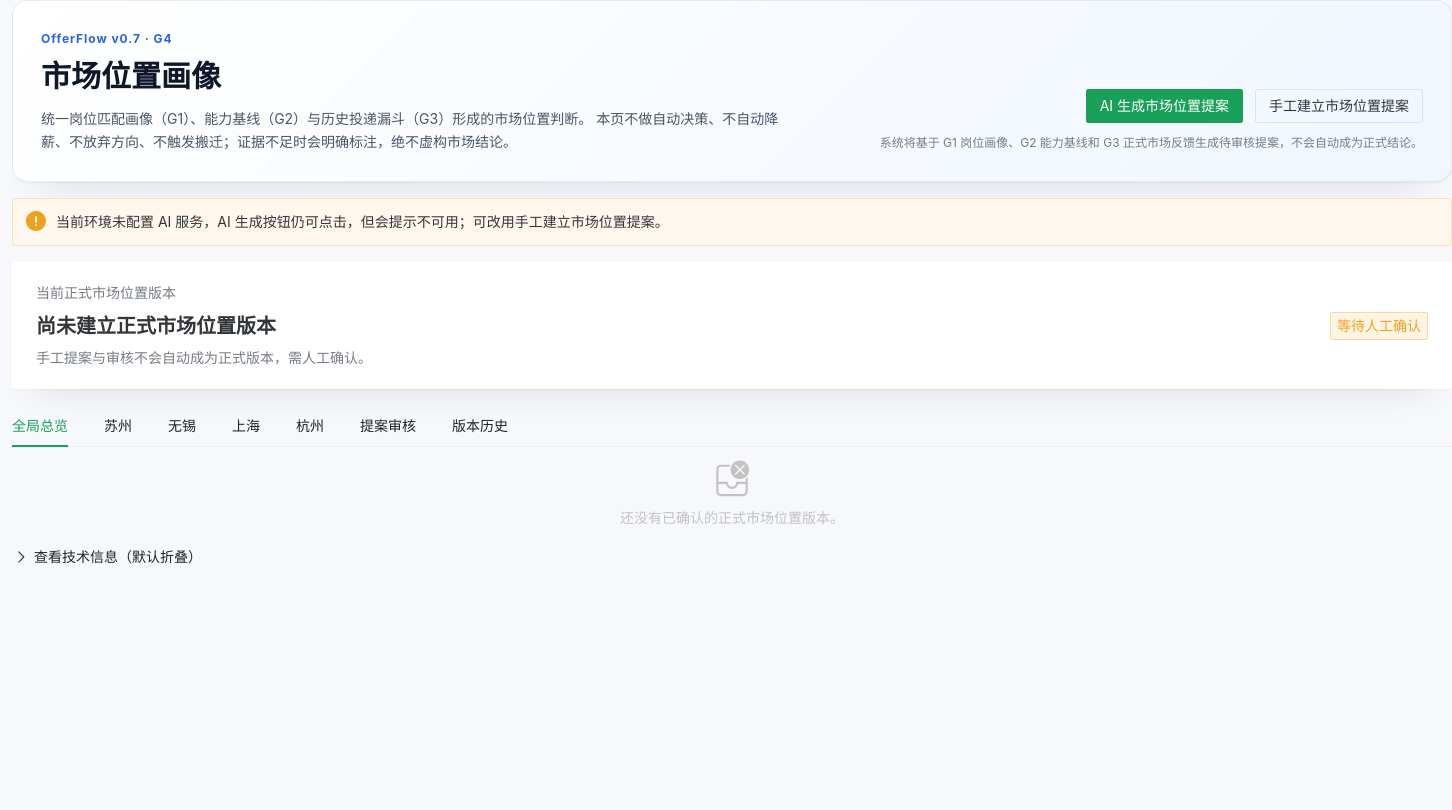
Test case: MarketPositionPage · AI 生成市场位置提案 › AI 输出未通过校验：展示中文错误提示且不创建提案
Click the button with test id "mp-ai-generate" at (1164, 106), box [1086,89,1243,123]
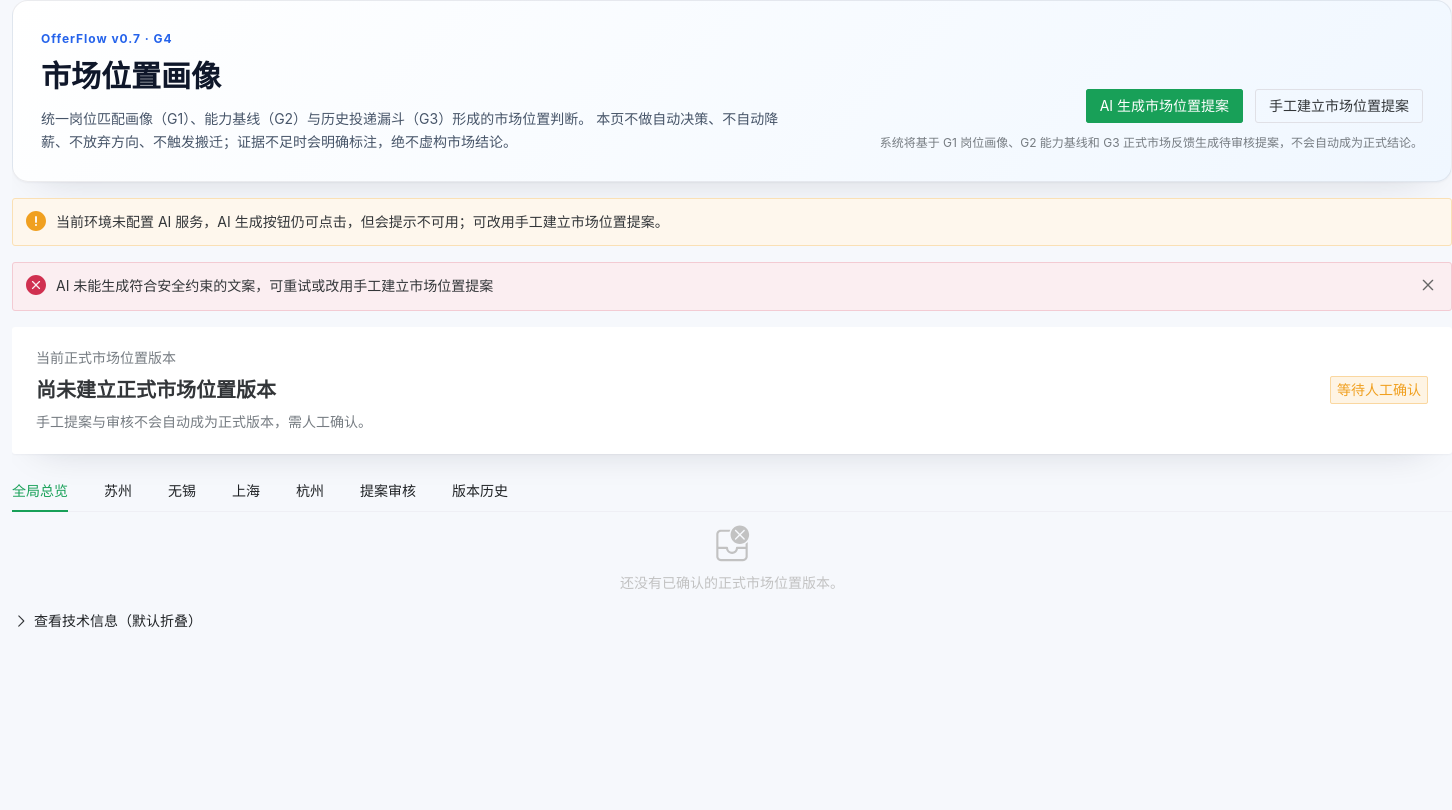
Check: the element with test id "mp-overview-empty" is shown, box [620,524,844,590]
Check: the message with test id "mp-error" shows "未能生成符合安全约束的文案", box [56,277,493,294]
